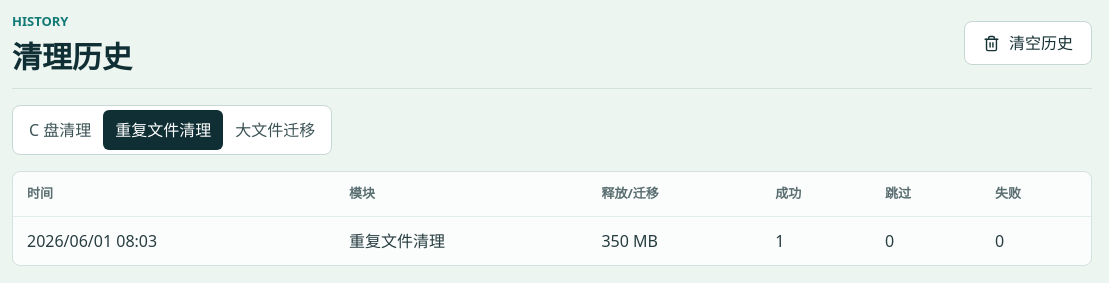
HistoryPage › shows a safe error when clearing history fails
Expected: the tab "重复文件清理" is shown, [103,110,223,150]
Step 1. Click the button "清空历史" → (1028,43), box [964,21,1092,65]
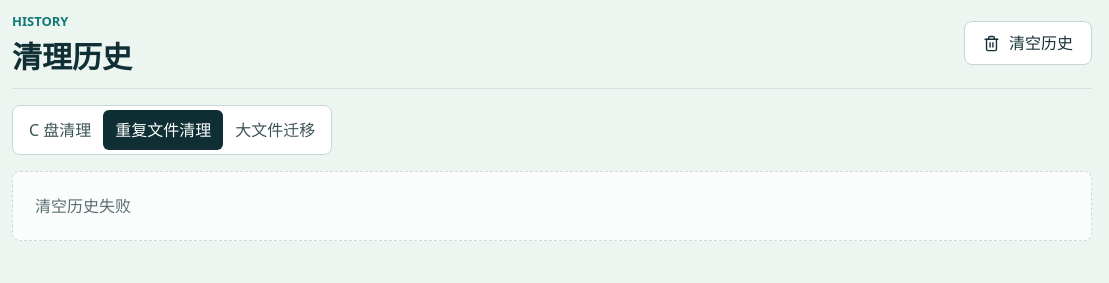
Expected: the text "清空历史失败" is shown, [12,171,1092,241]
